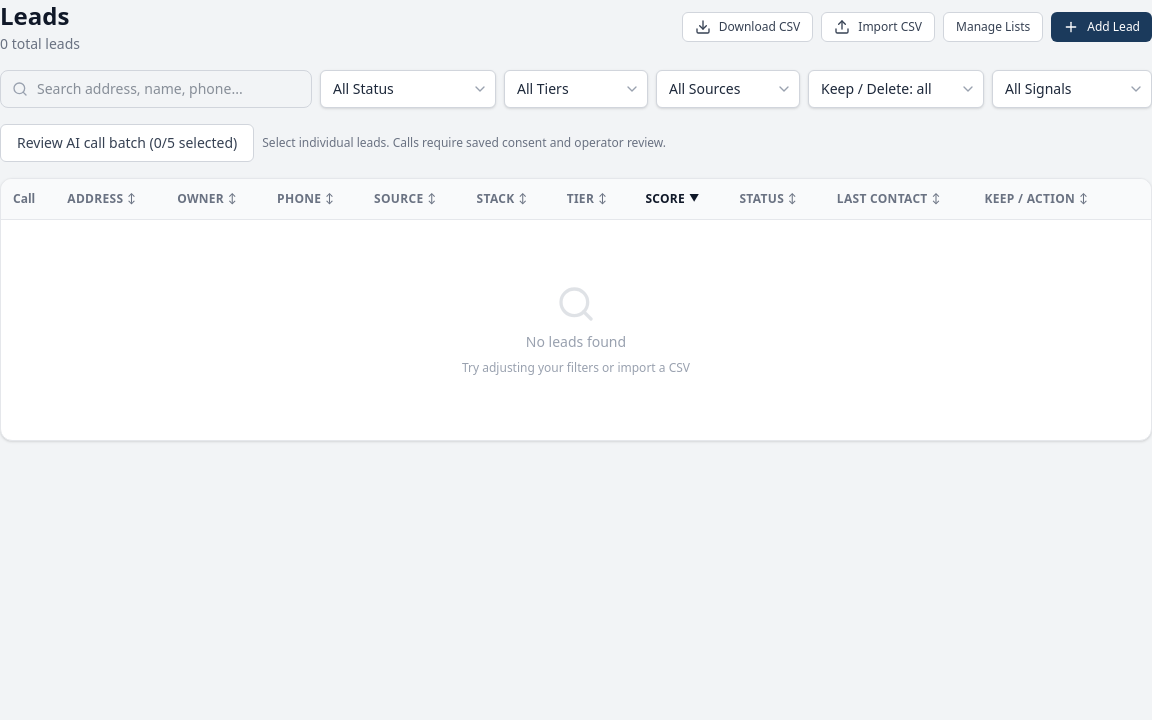
Test: starts a fresh Add Lead form after cancelling a draft
Click the button "Add Lead". click: [1102, 27]
box: [1051,12,1151,42]
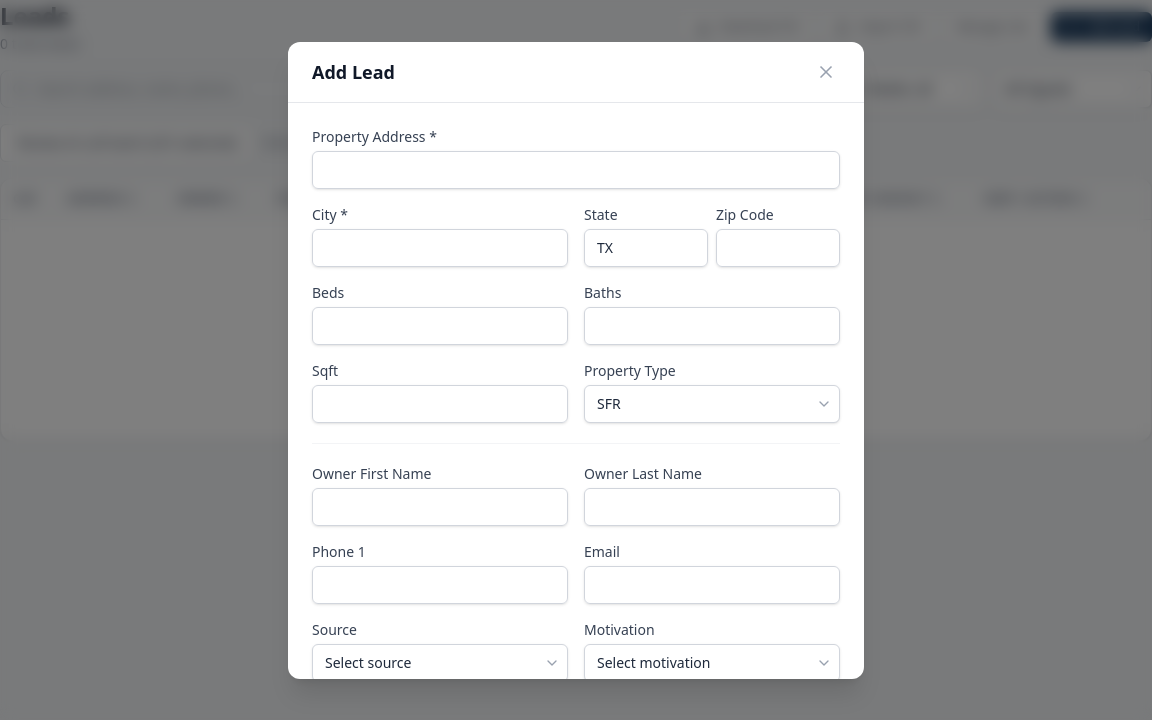
Type "QA draft address" into the field labelled "Property Address *". click: [576, 170]
box: [312,150,840,188]
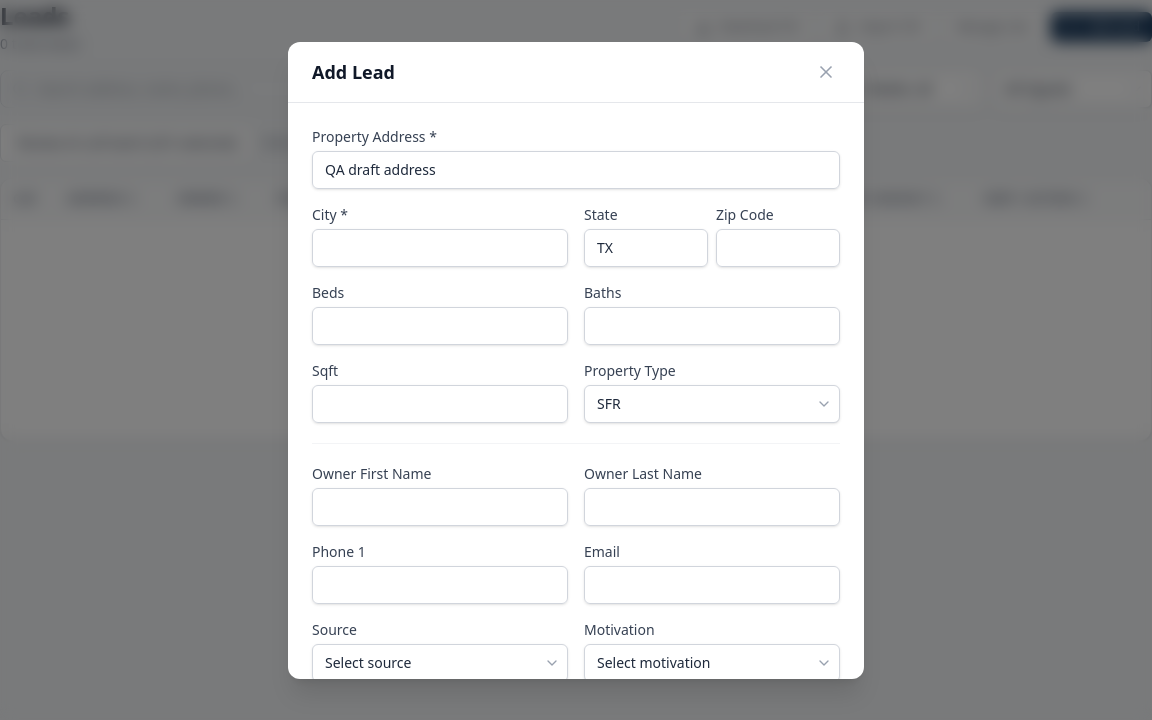
Type "Dallas" into the field labelled "City *". click: [440, 248]
box: [312,228,568,266]
(page scrolled)
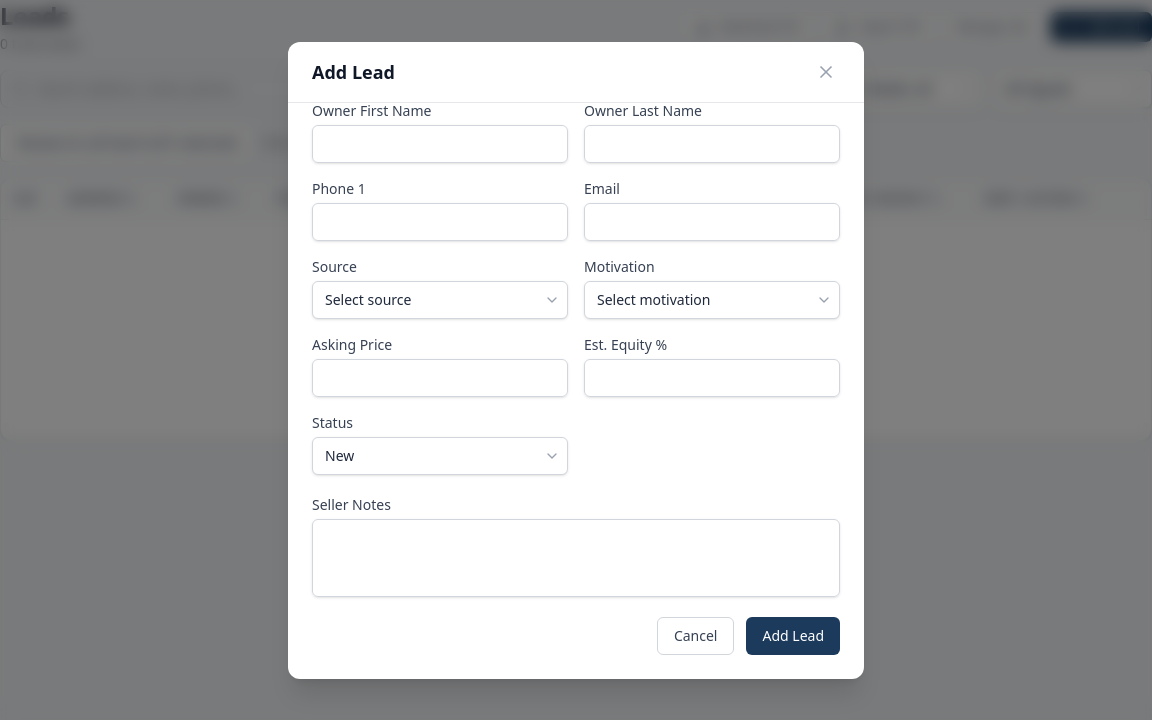
Type "Previous draft notes" into the text box labelled "Seller Notes". click: [576, 558]
box: [312,518,840,596]
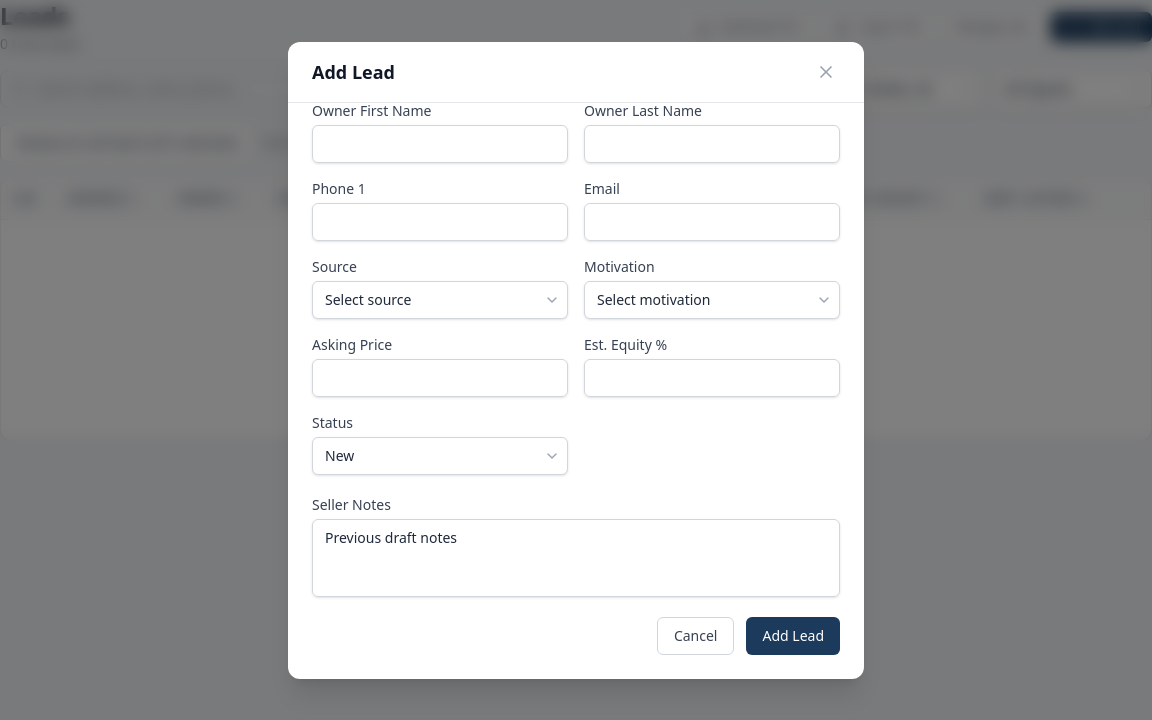
Click the button "Cancel". click: [696, 636]
box: [657,616,734,654]
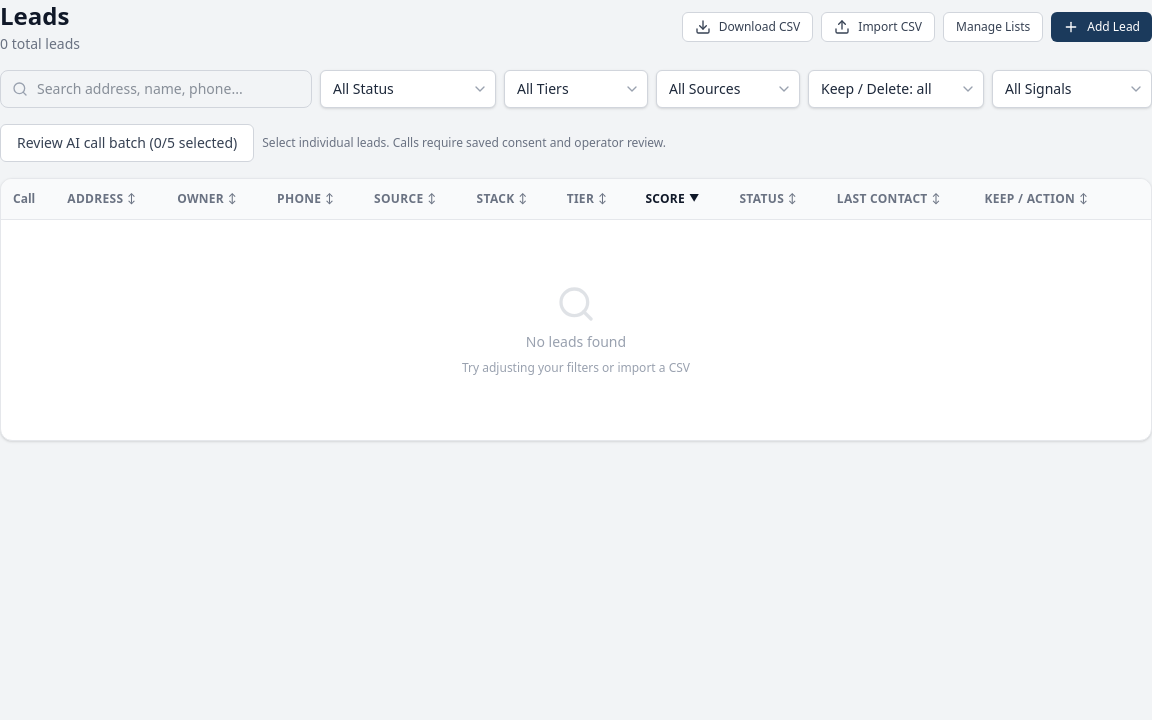
Click the button "Add Lead". click: [1102, 27]
box: [1051,12,1151,42]
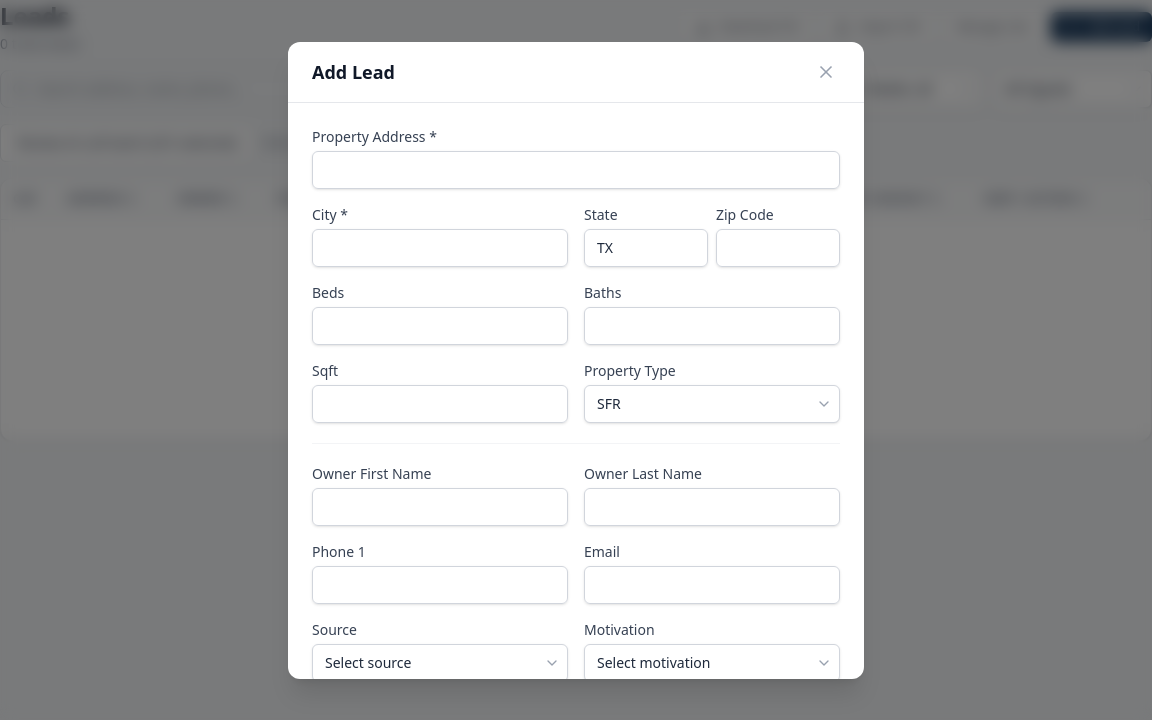
Expected: the field labelled "City *" is empty, [312,228,568,266]
Expected: the field labelled "Property Address *" is empty, [312,150,840,188]
Expected: the field labelled "State" holds "TX", [584,228,708,266]
